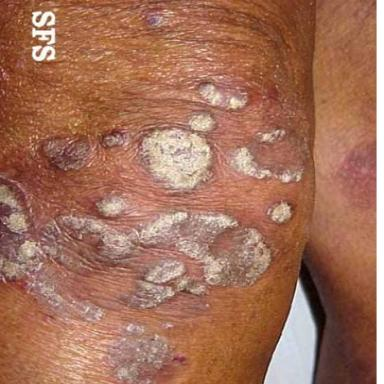Psoriasis: (2, 178, 273, 321), (139, 127, 218, 195), (105, 323, 186, 384), (125, 259, 208, 310), (231, 147, 303, 183), (199, 83, 247, 110), (96, 193, 131, 217), (265, 200, 295, 223), (188, 112, 216, 132), (257, 128, 286, 143)
